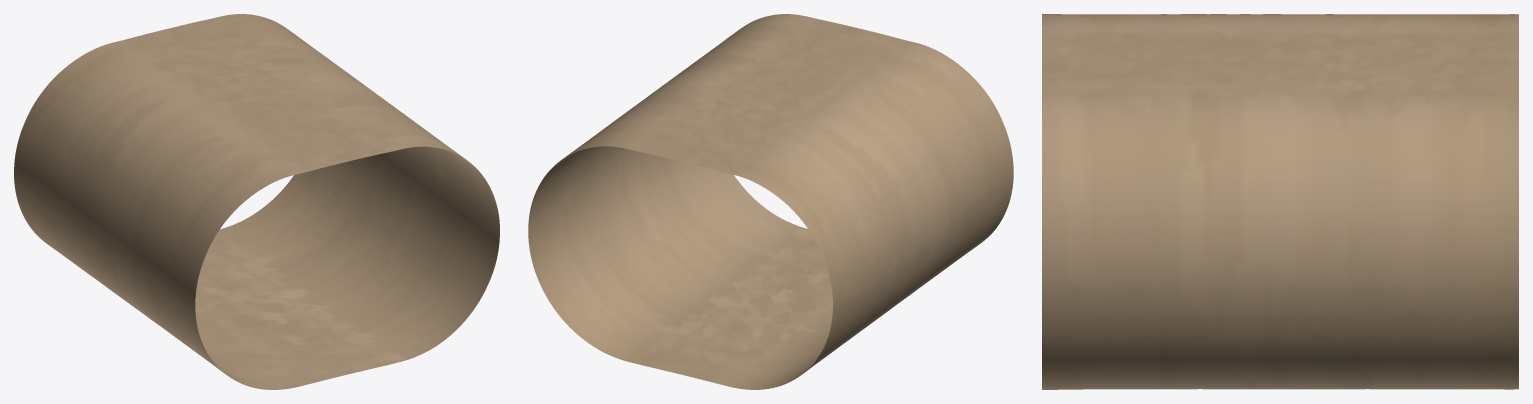
The model's file is a door.obj.
3 renders of one model, left to right at view 1: azimuth 30°, elevation 25°; view 2: azimuth 150°, elevation 25°; view 3: azimuth 270°, elevation 25°, orthographic. The views are drawn at different scales.
Bounding box in the file's own units: 0.9919 × 0.6646 × 1.02.
